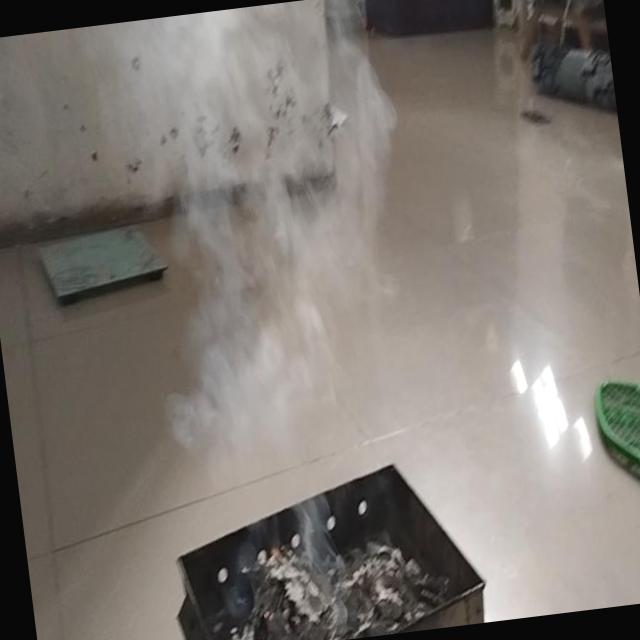smoke: (69, 0, 414, 281), (118, 269, 381, 598)
